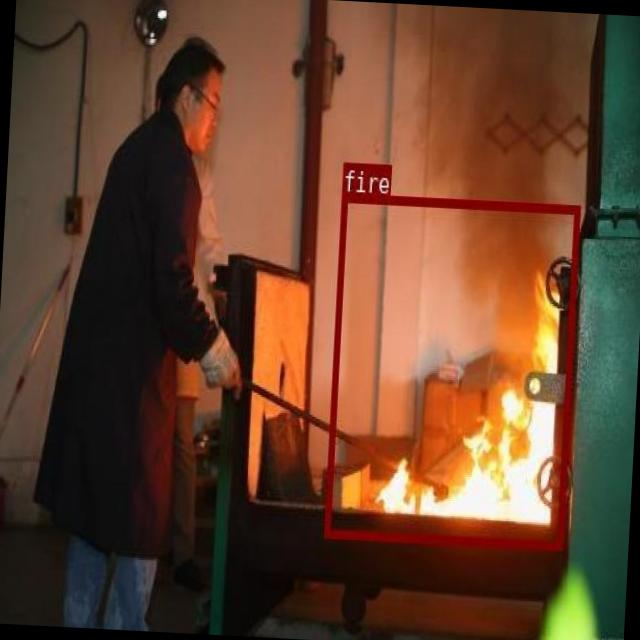fire: (324, 193, 580, 548)
